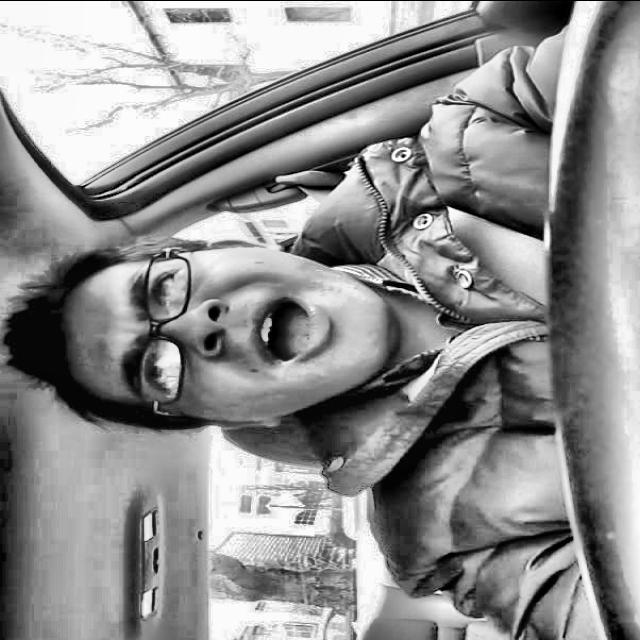open_eyes: (137, 257, 199, 319), (134, 338, 196, 398)
open_mouth: (234, 281, 358, 380)
